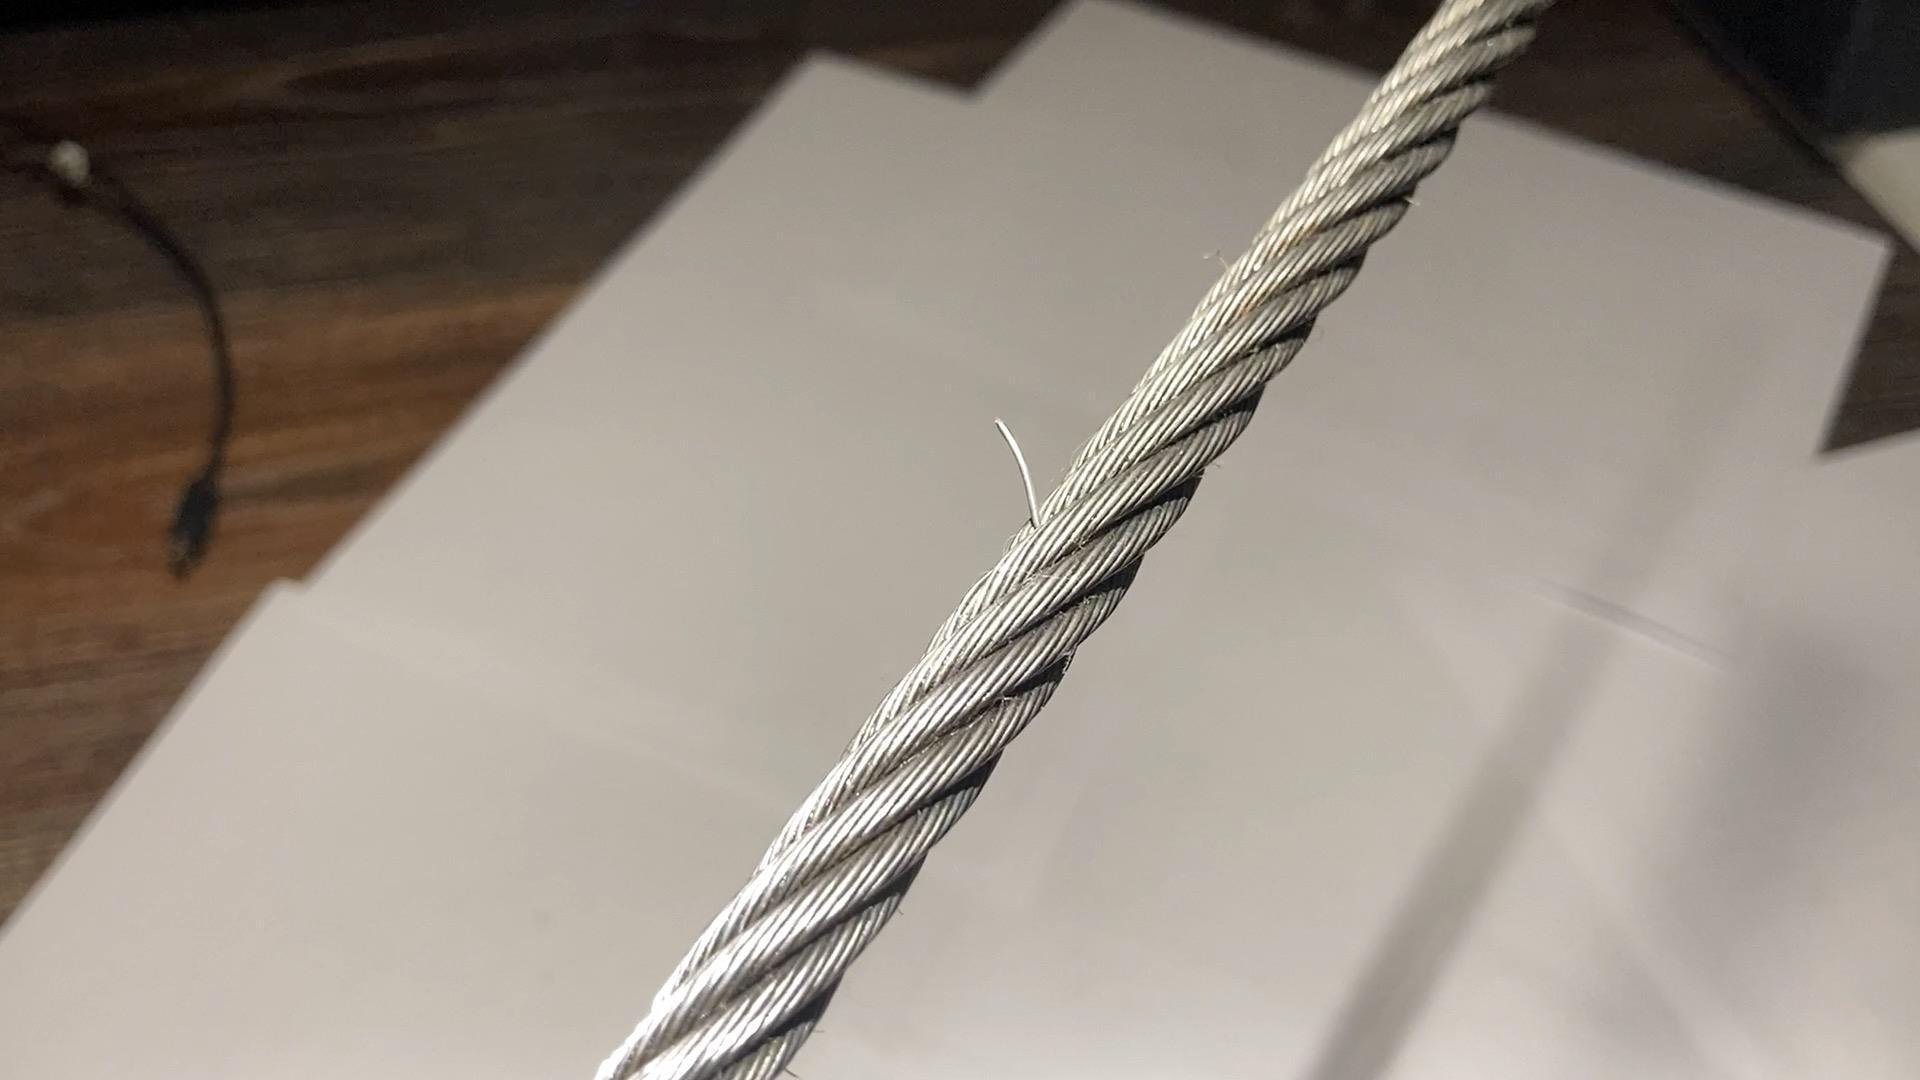break: (981, 400, 1064, 530)
